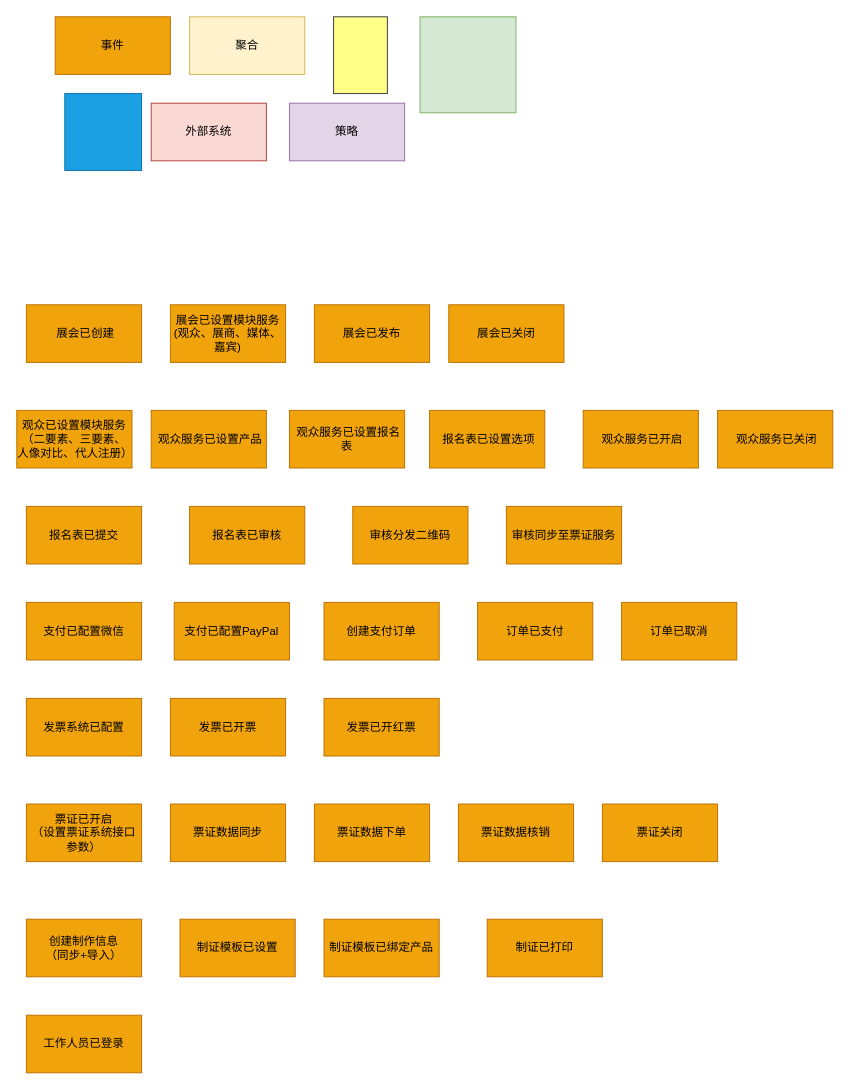
Image size: 850x1090. Some labels were removed from this diagram. The shapes that lost their labels are listed below. From the top down, each one's box as (x1, y1, x2, y2) in pixels, then its label:
(333, 16, 387, 94): 参与者
(419, 16, 516, 113): 读模型
(64, 93, 142, 170): 命令
